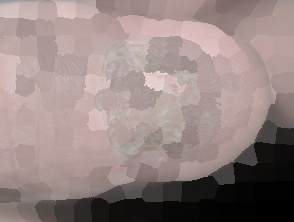Nail_psoriasis: (82, 24, 248, 178)
